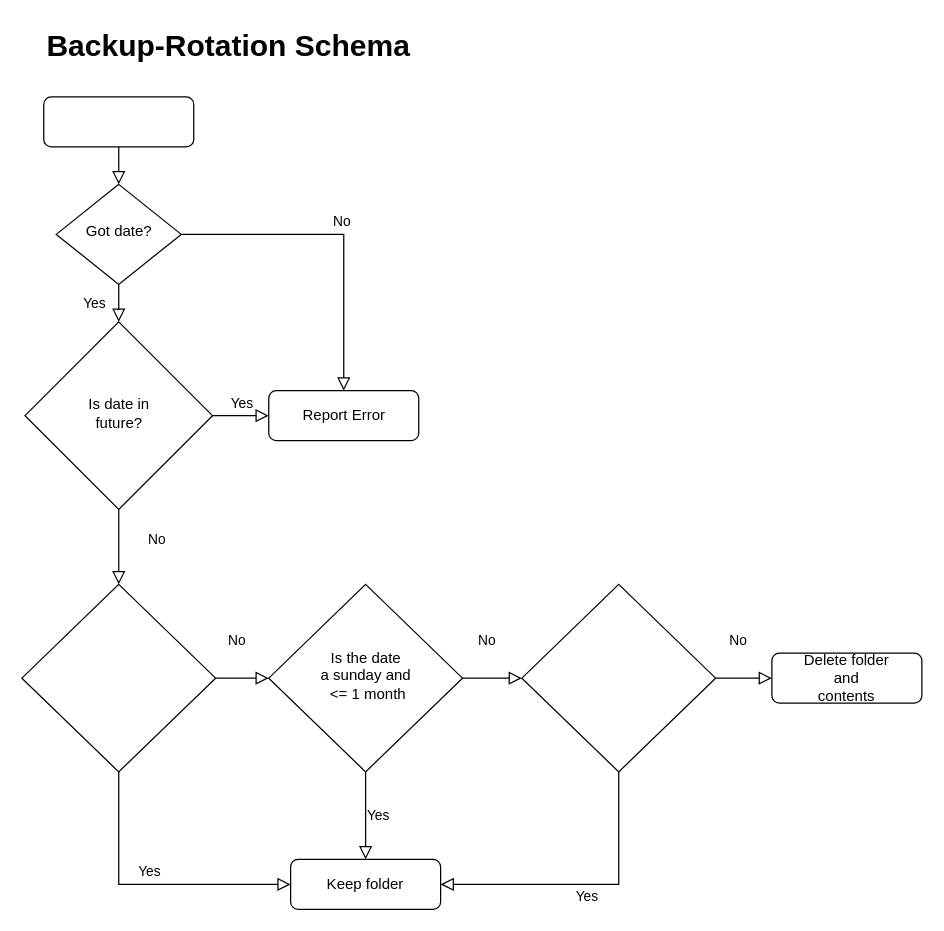
This 944x931 diagram has some shape labels left out. The centre of each missing label's shape, as x and y in pixels:
"Get date from folder name" belongs at (x=118, y=121).
"Is date within last 3 days?" belongs at (x=118, y=677).
"Is the date the last day of a month?" belongs at (x=618, y=677).
